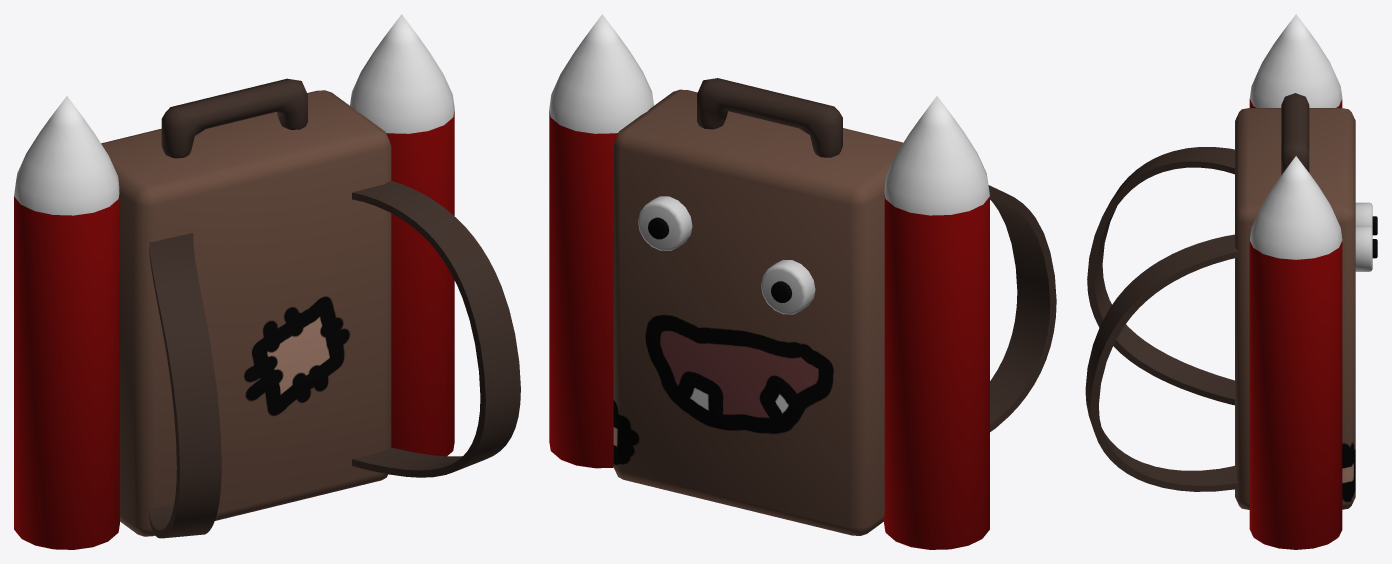
The model's file is jetpack.fbx.
The picture shows the model from 3 angles, left to right: view 1: azimuth 30°, elevation 25°; view 2: azimuth 150°, elevation 25°; view 3: azimuth 270°, elevation 25°; orthographic projection. The views are drawn at different scales.
Parts seen in each view (by area): view 1: Würfel, Zylinder_1, Zylinder, Sweep, Sweep_1, Würfel_1; view 2: Würfel, Zylinder_1, Zylinder, Sweep_1, Würfel_1, Zylinder_3, Zylinder_2; view 3: Zylinder, Würfel, Sweep, Sweep_1, Zylinder_1, Würfel_1, Zylinder_2, Zylinder_3.
Boxes of the visible parts, x1,y1,x2,y2 form: Würfel: (101, 90, 391, 536); Zylinder_1: (14, 96, 119, 549); Zylinder: (350, 14, 454, 456); Sweep: (352, 180, 520, 477); Sweep_1: (149, 233, 221, 538); Würfel_1: (161, 78, 307, 158); Würfel: (613, 89, 902, 535); Zylinder_1: (884, 96, 989, 549); Zylinder: (549, 14, 653, 468); Sweep_1: (988, 185, 1056, 431); Würfel_1: (697, 78, 842, 157); Zylinder_3: (761, 260, 815, 314); Zylinder_2: (638, 196, 692, 250); Zylinder: (1249, 156, 1342, 549); Würfel: (1235, 108, 1355, 509); Sweep: (1085, 234, 1238, 491); Sweep_1: (1087, 147, 1234, 405); Zylinder_1: (1249, 14, 1342, 107); Würfel_1: (1281, 93, 1309, 174); Zylinder_2: (1355, 225, 1372, 271); Zylinder_3: (1355, 202, 1372, 227).
Bounding box in the file's own units: 255 × 248 × 174.
6 materials, 1 textured.
